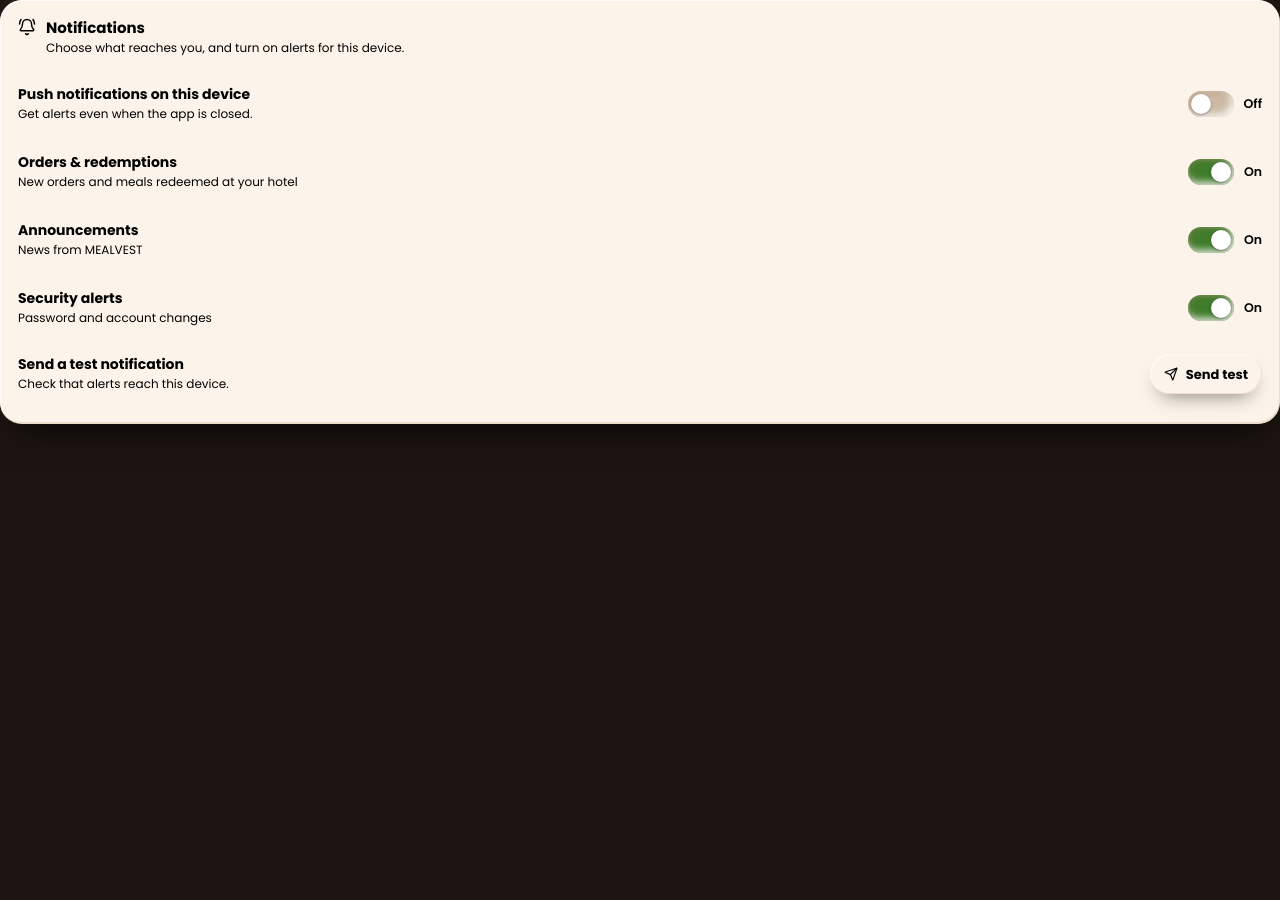
Test: HotelNotificationSettings › a category toggle saves with the server's field name; a failed save reverts and says so
Expected: the text "Orders & redemptions" is shown, [18,152,177,172]
Click the switch labelled "On" in the row of "Orders & redemptions": {"x": 1225, "y": 172} [1188,150,1262,194]
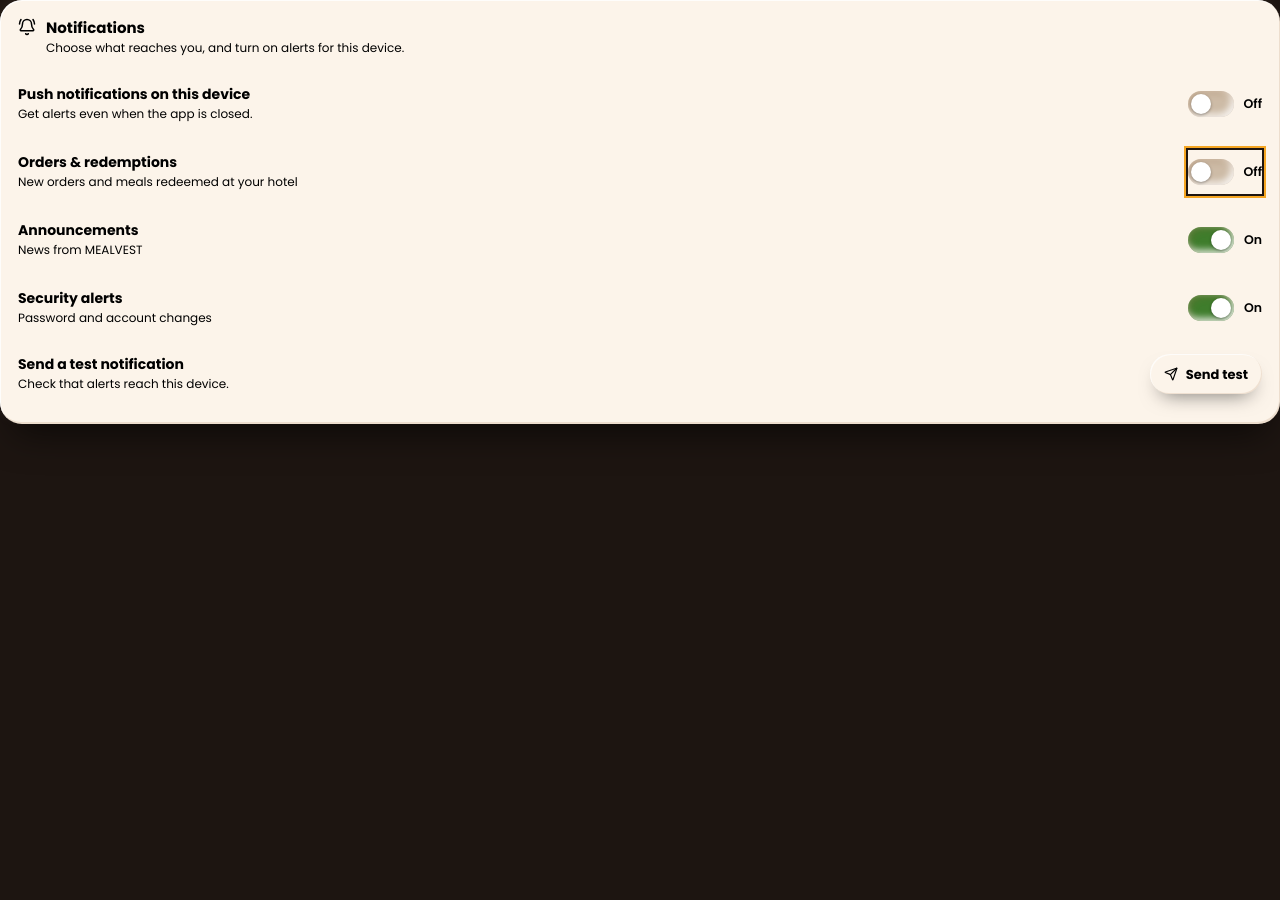
Now the switch labelled "Off" in the row of "Orders & redemptions" is not checked, box [1188,150,1262,194]
Click the switch labelled "On" in the row of "News from MEALVEST": {"x": 1225, "y": 240} [1188,218,1262,262]
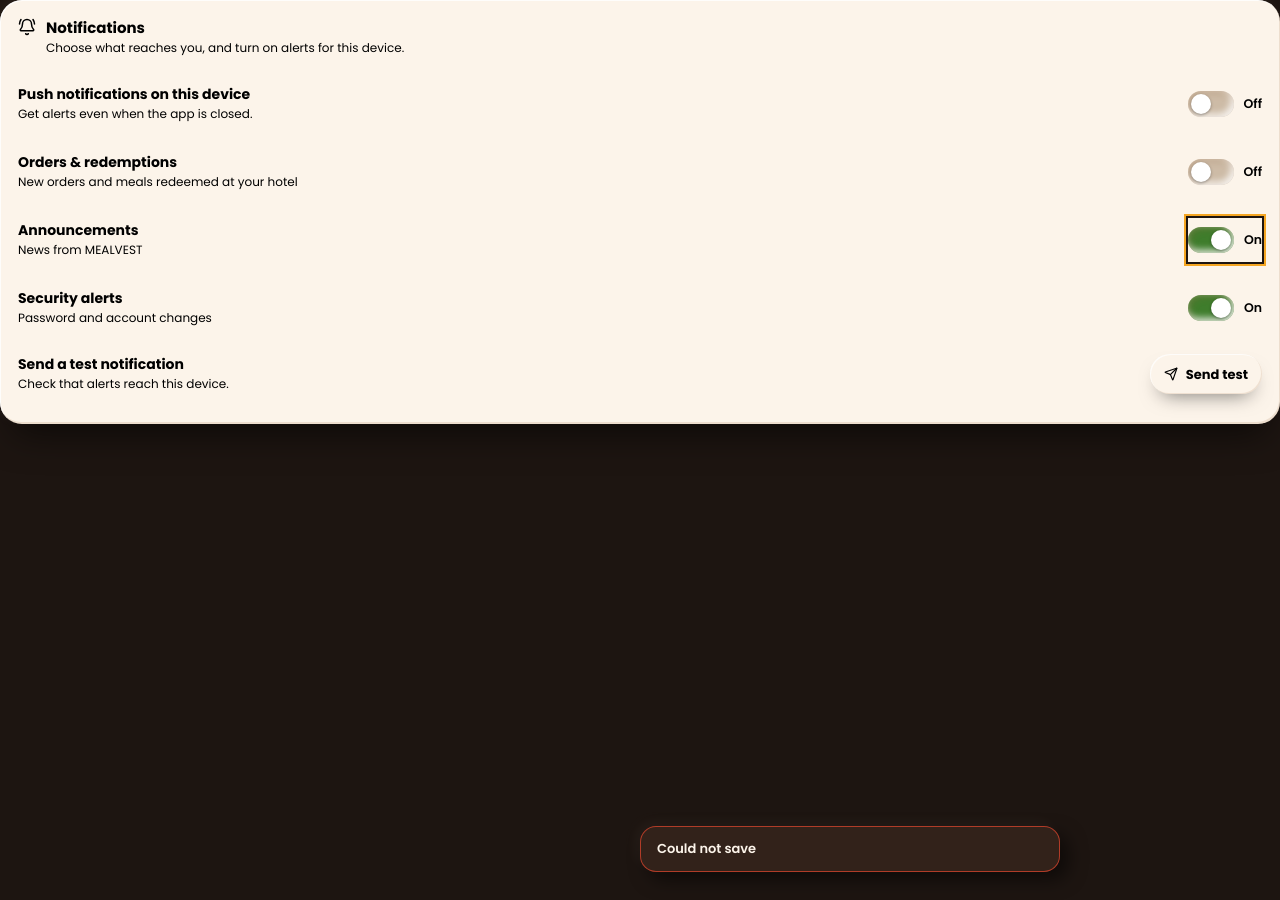
Now the text "Could not save" is shown, box [640,826,1060,872]
